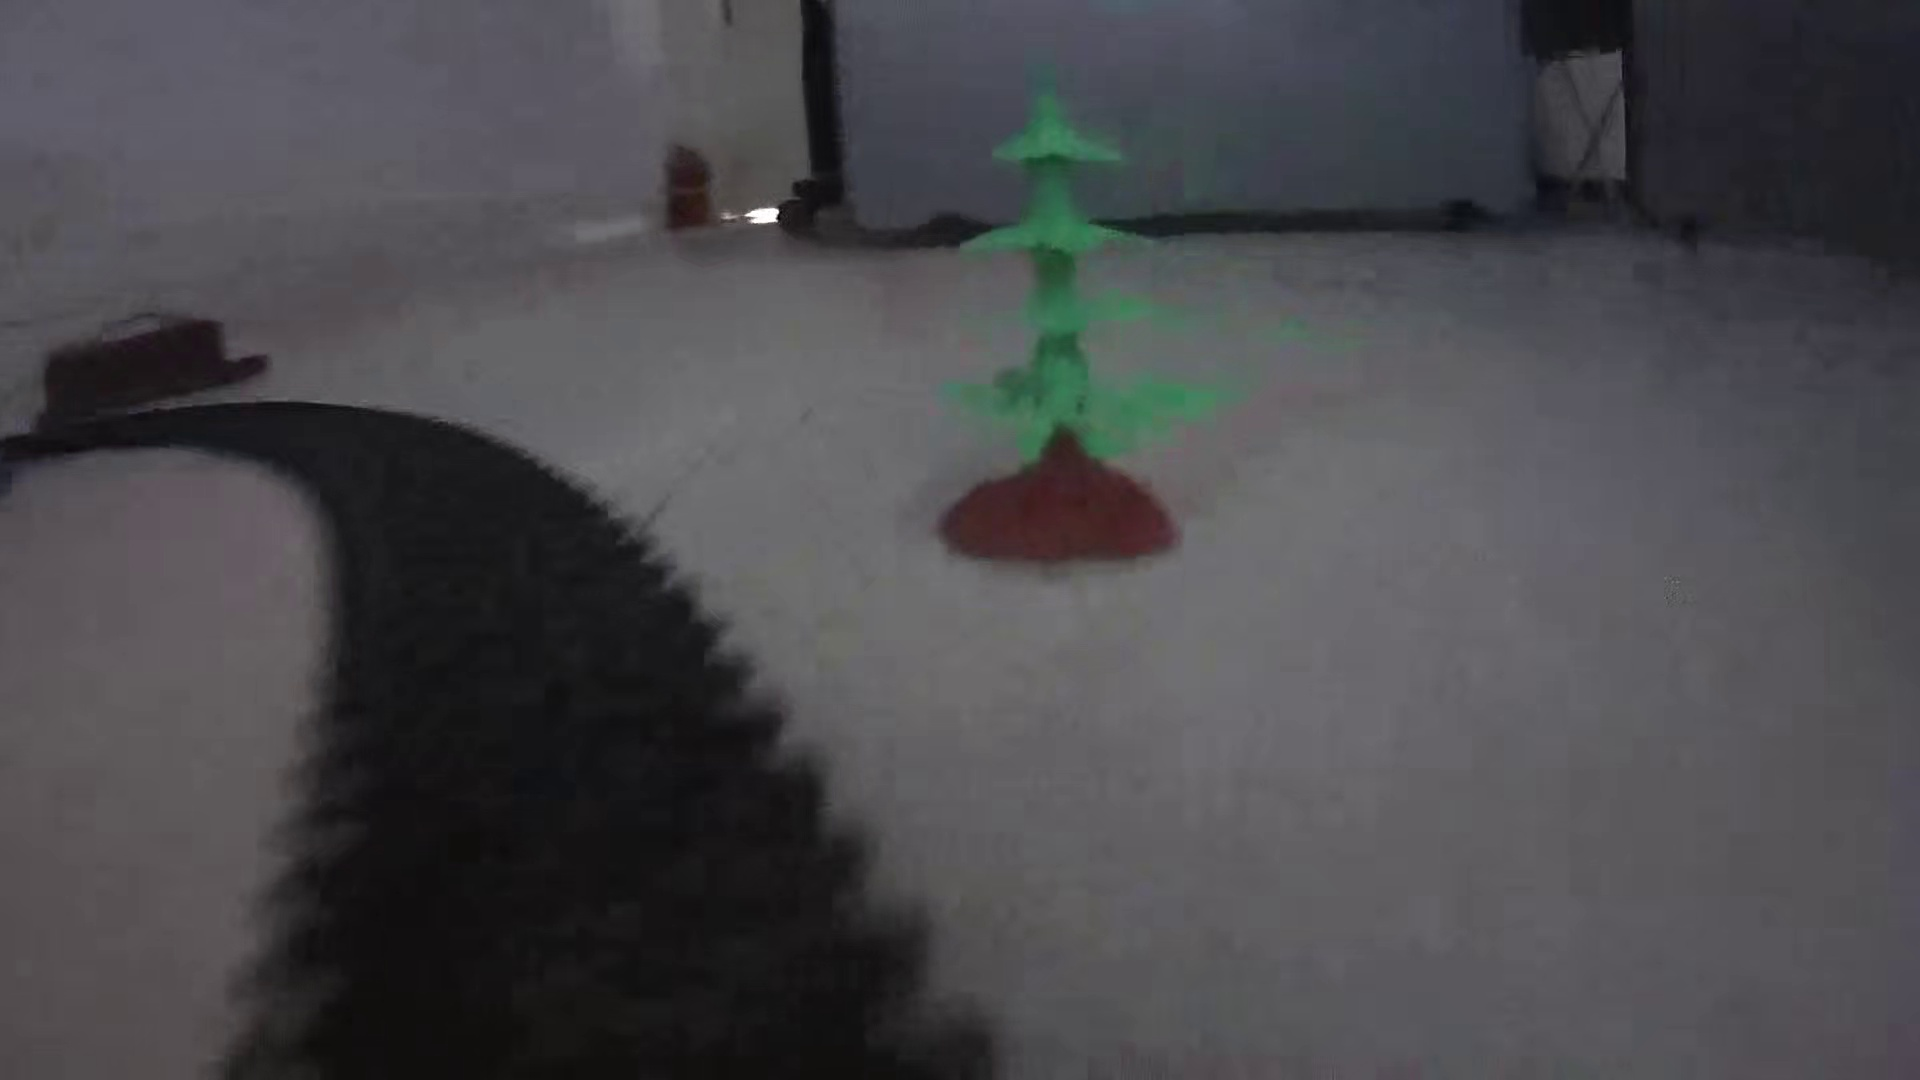tree: (922, 77, 1197, 564)
